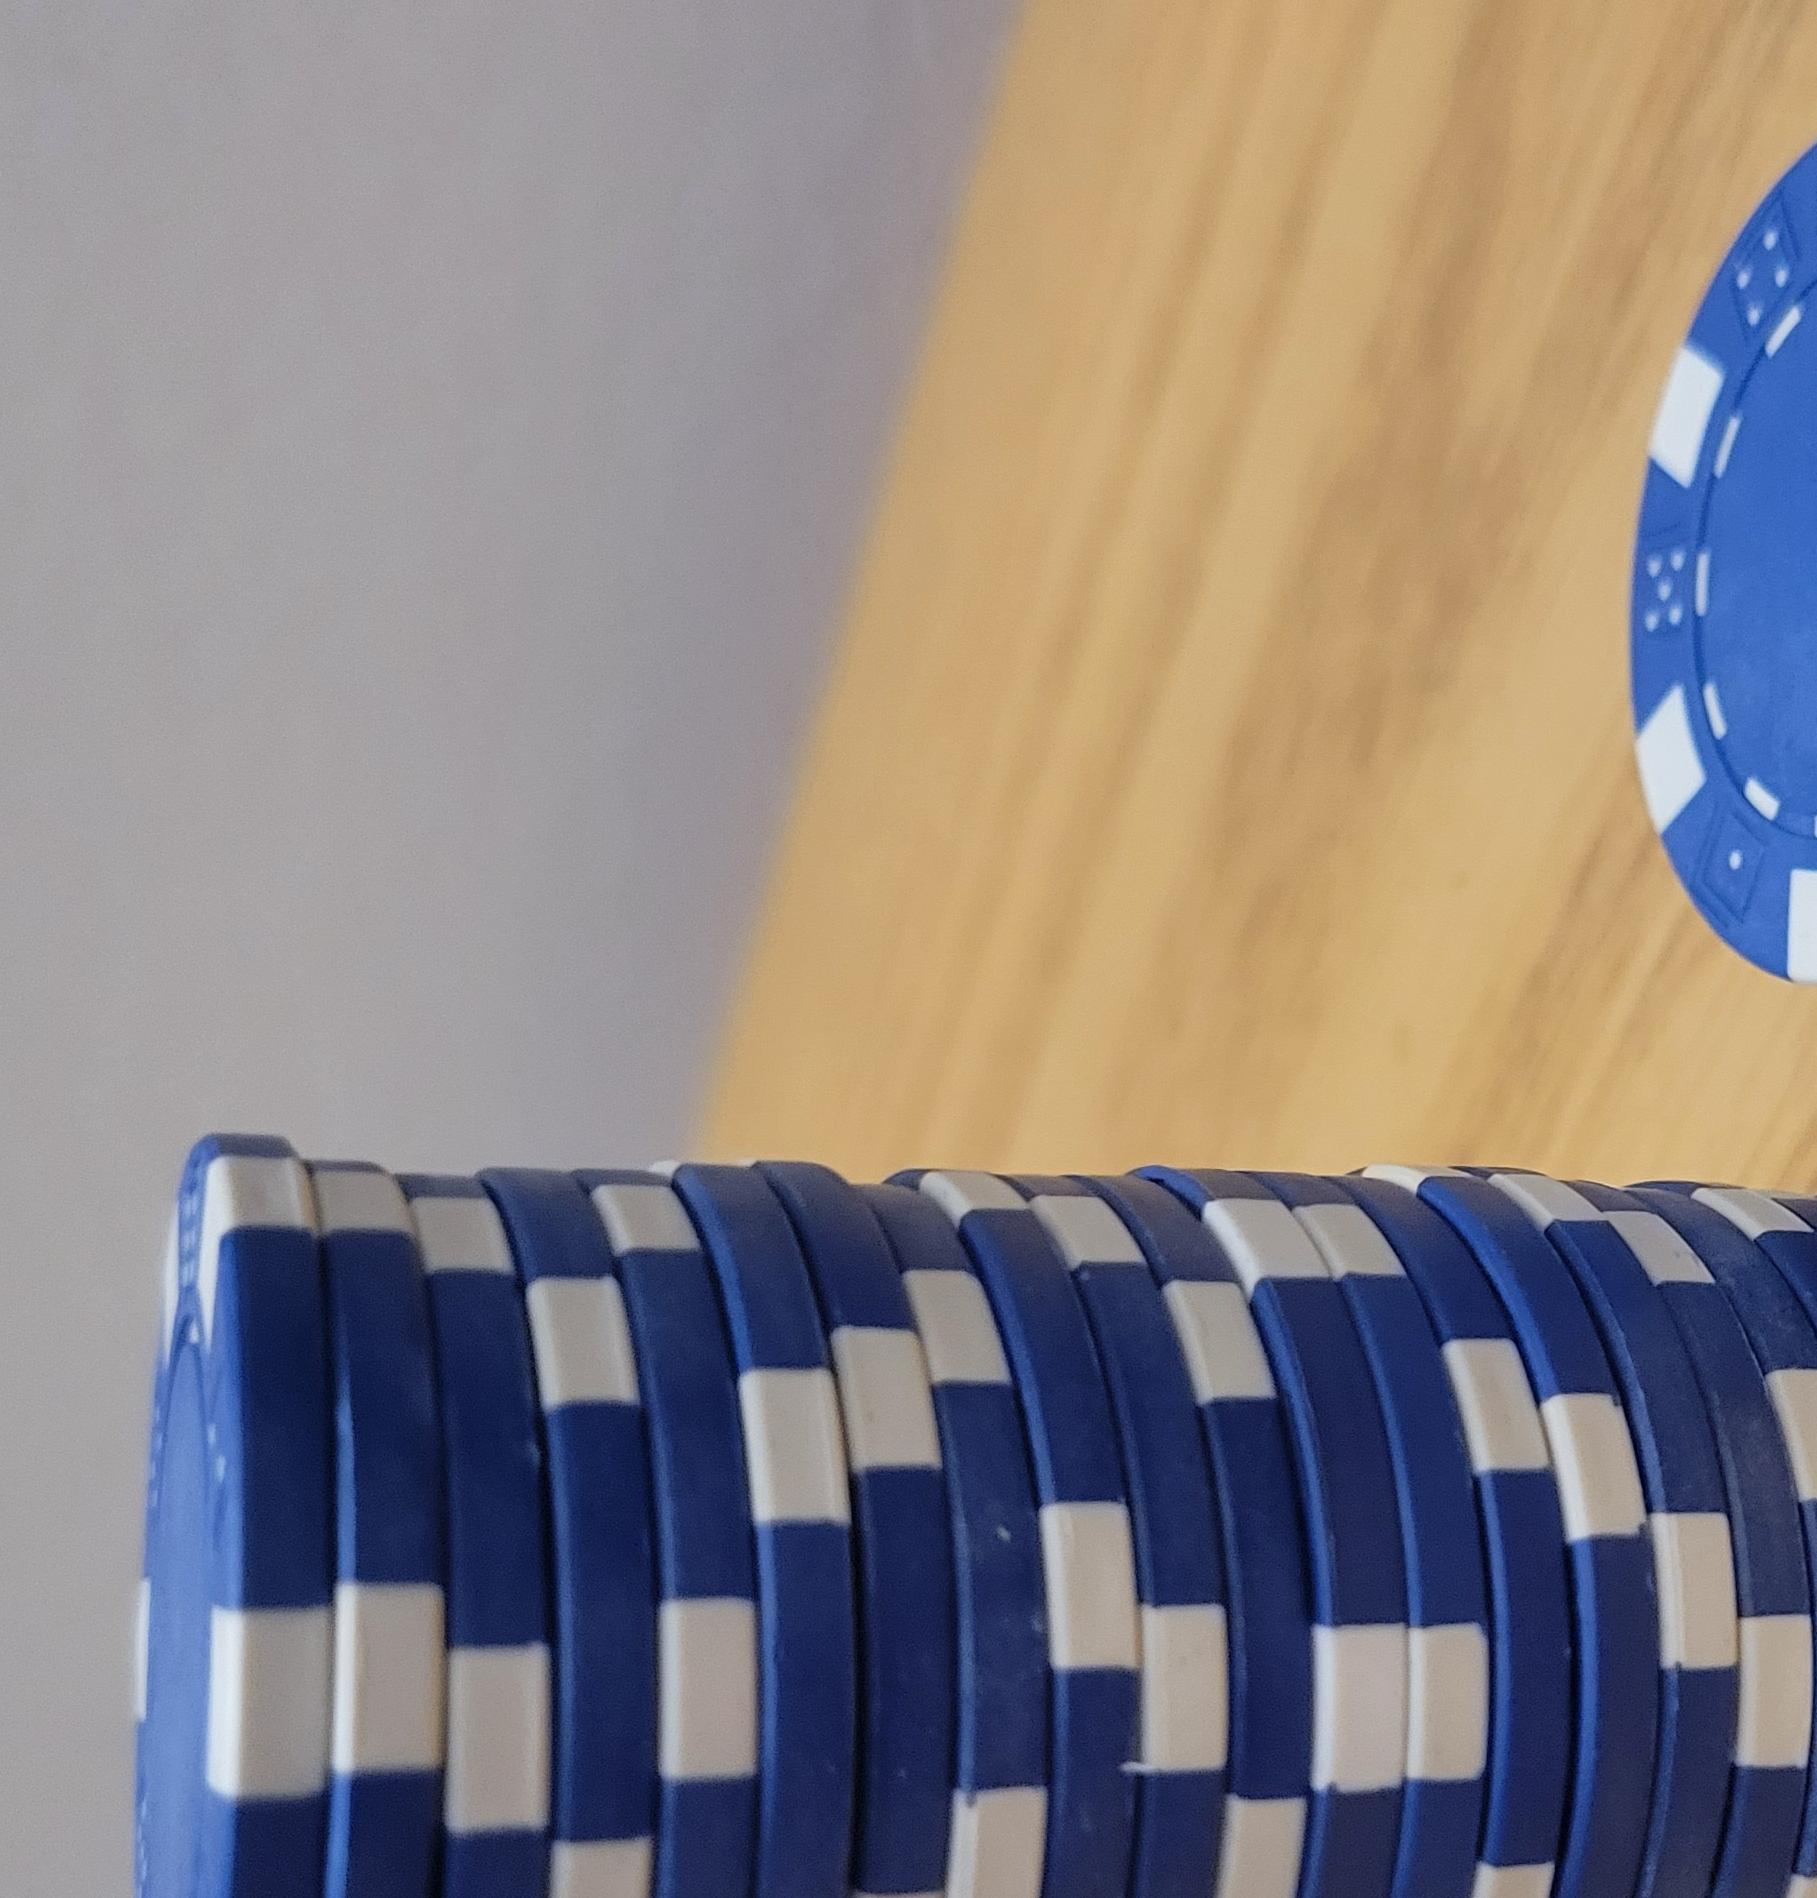Chip: (2, 108, 1254, 1898)
